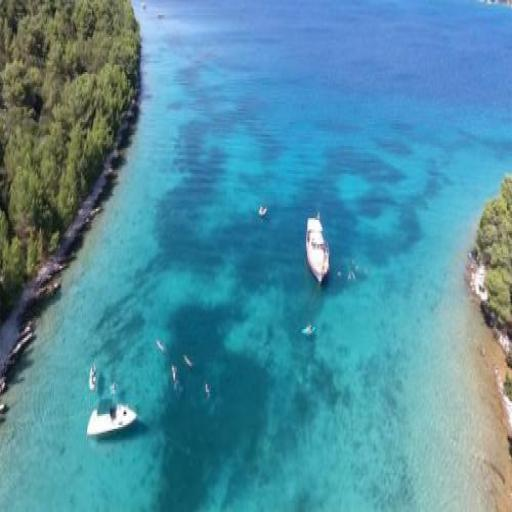swimming: (86, 358, 99, 396)
